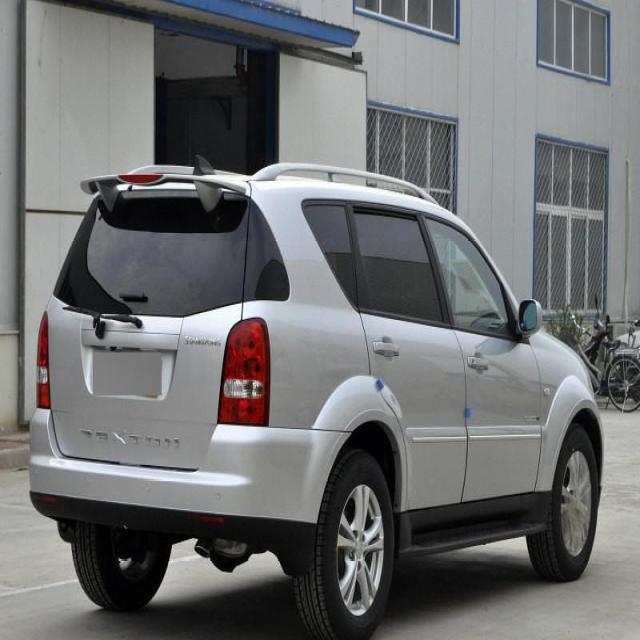back_glass: (52, 190, 291, 316)
back_left_side_light: (34, 311, 54, 409)
back_right_side_light: (216, 315, 271, 427)
door: (345, 203, 468, 502)
front_right_side_door: (424, 209, 544, 540)
front_right_side_mirror: (516, 297, 543, 342)
rear_bumper: (28, 407, 350, 541)
wheel: (297, 452, 394, 636), (526, 426, 600, 580), (70, 517, 172, 611)
